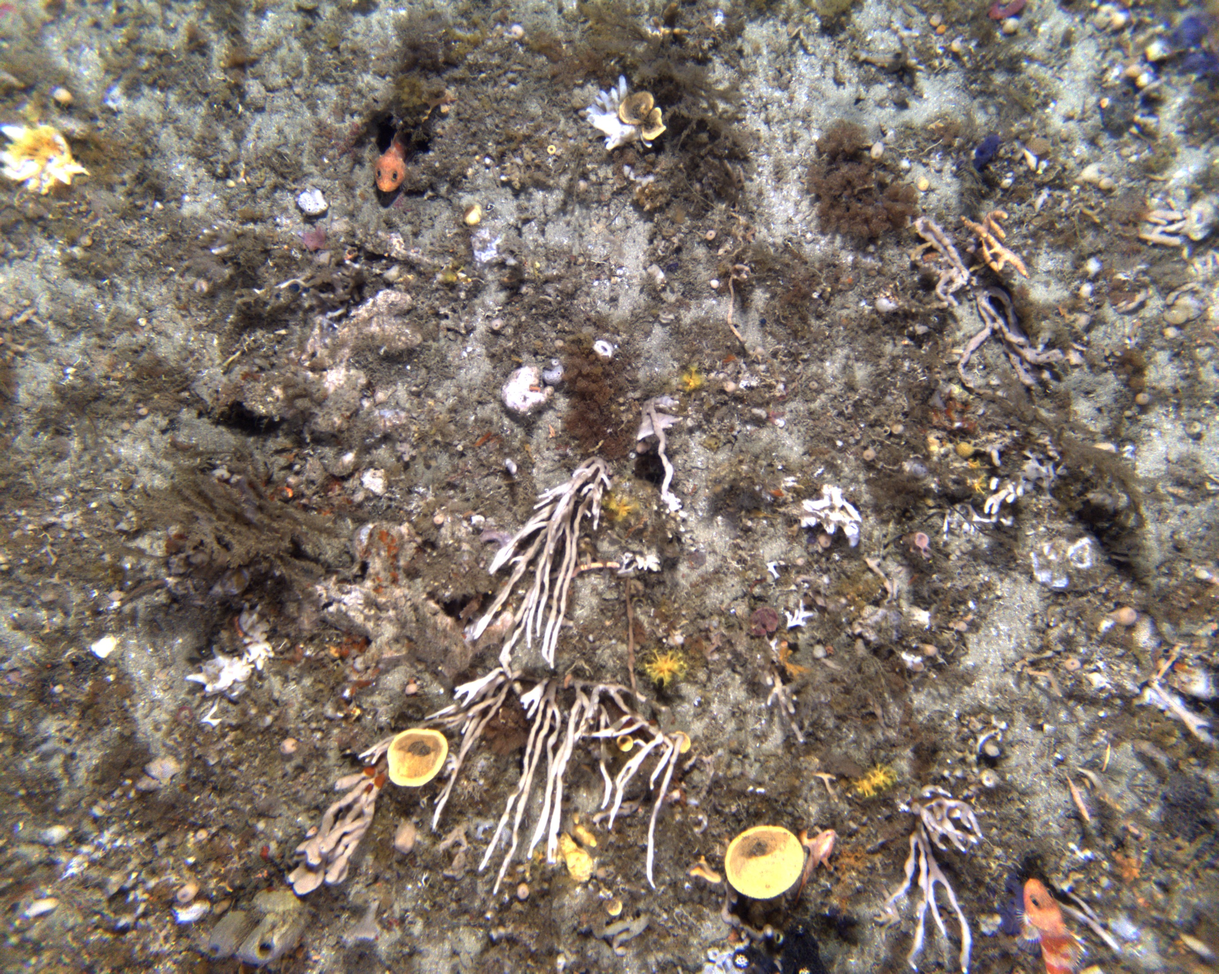Brachionichthyidae: (789, 824, 844, 914)
